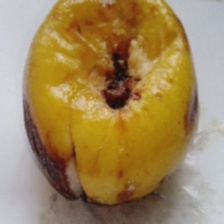guava: (23, 25, 217, 216)
